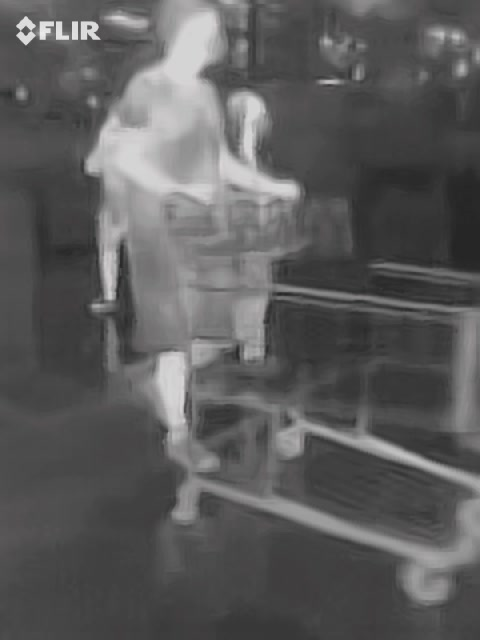head: (152, 1, 228, 73)
